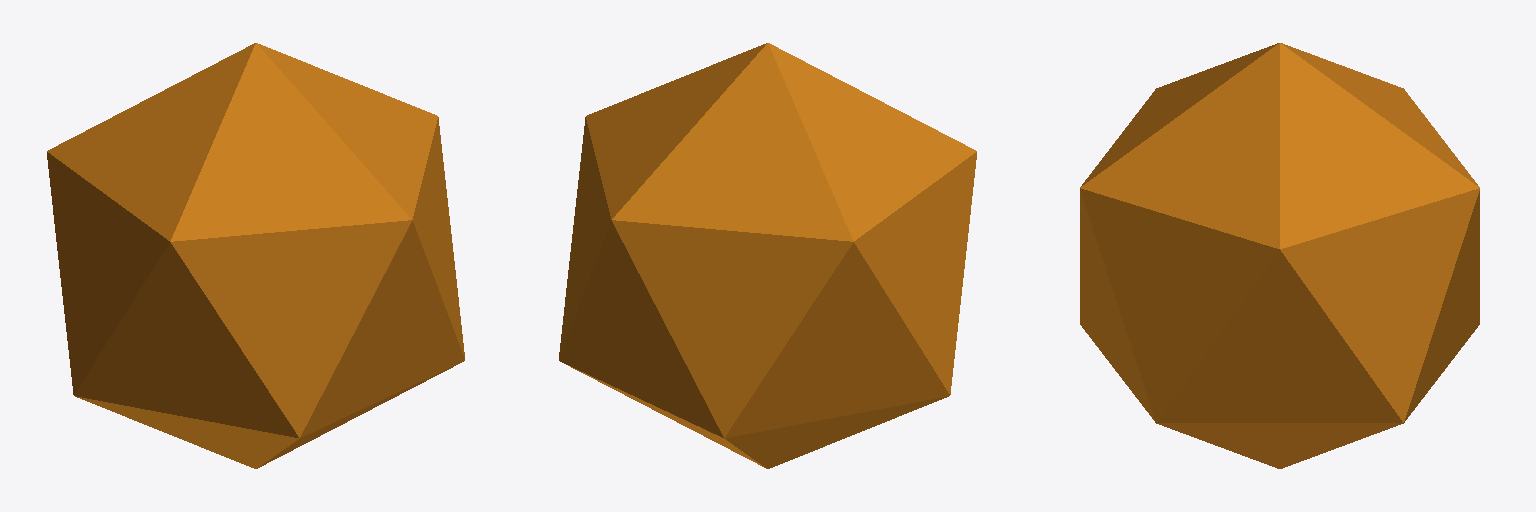
File: rockParticle.obj
3 views of the same model, side by side, from view 1: azimuth 30°, elevation 25°; view 2: azimuth 150°, elevation 25°; view 3: azimuth 270°, elevation 25° (orthographic).
Parts seen in each view (by area): view 1: Icosphere; view 2: Icosphere; view 3: Icosphere.
Boxes of the visible parts, <box> form: Icosphere: <box>47,43,464,468</box>; Icosphere: <box>559,43,976,468</box>; Icosphere: <box>1080,43,1479,468</box>.
Bounding box in the file's own units: 1.79 × 2 × 1.7.